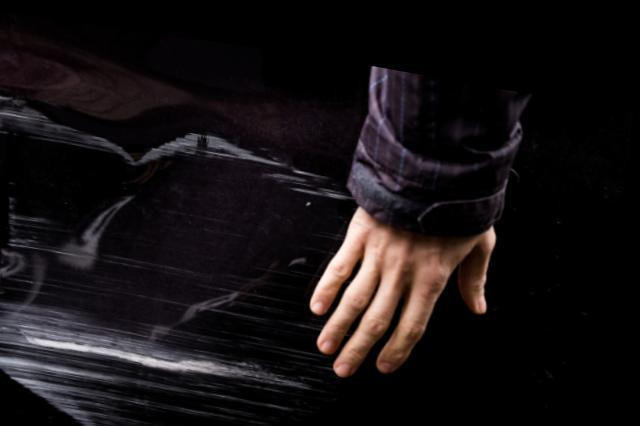scratch: (0, 92, 358, 426)
